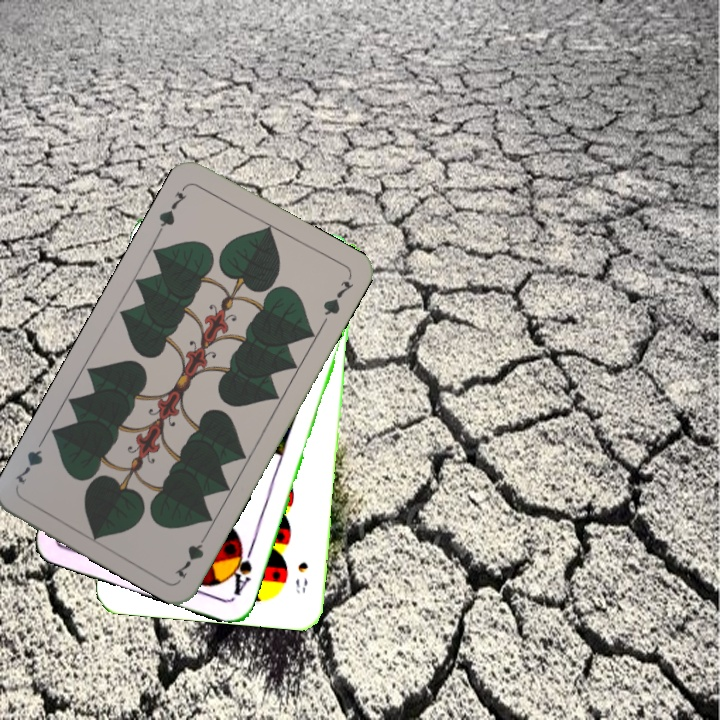G7: (171, 527, 212, 582), (153, 182, 190, 236)
S8: (291, 558, 311, 596)
SA: (224, 538, 256, 599)
